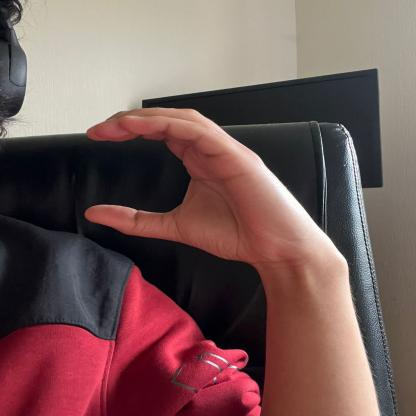C: (80, 104, 297, 269)
